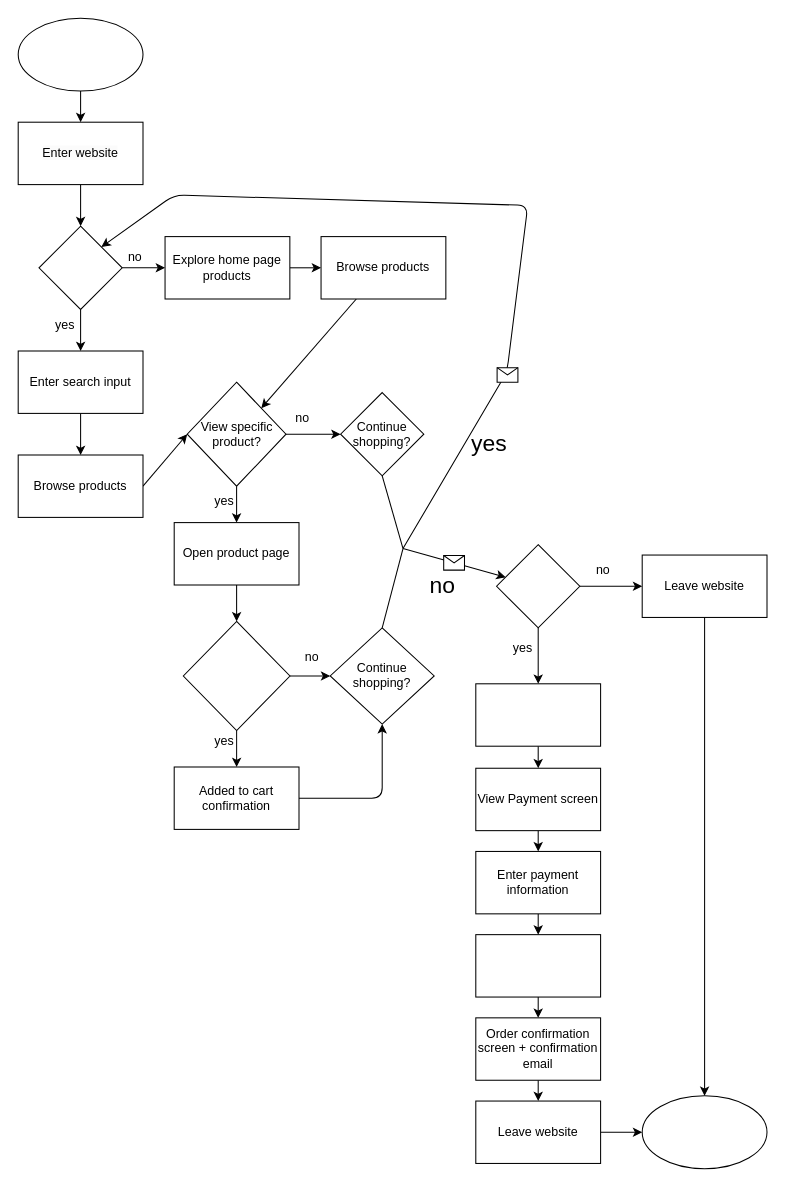
Some shapes in this 785 by 1188 pixel diagram are drawn without their labels. Each missing label, with the centre of its shape:
Add item to cart?: the point at 236,675
Checkout?: the point at 538,586
End: the point at 704,1132
Pay: the point at 538,965
Search for product?: the point at 80,267
Start: the point at 80,54
View Cart screen: the point at 538,714
